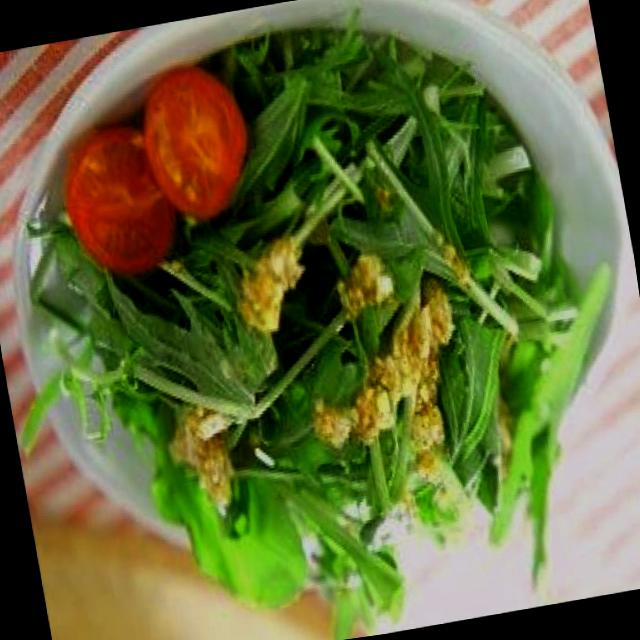Green Salad: (18, 24, 599, 640)
